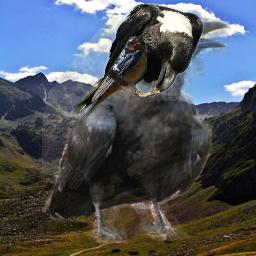Crow: (42, 17, 231, 243), (93, 1, 205, 100)
Swallow: (74, 36, 147, 129)
